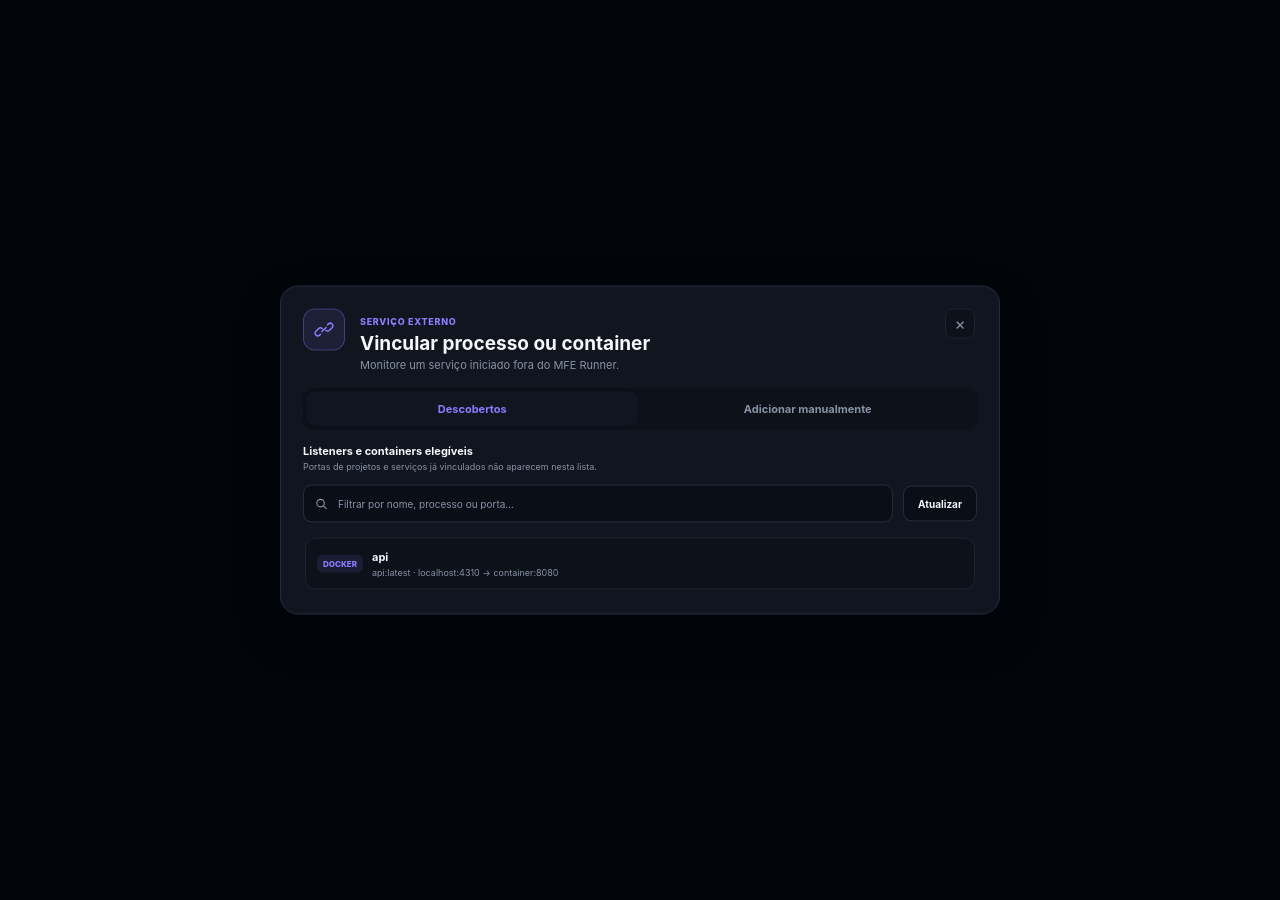
Test: ExternalServiceDialogComponent › explains IntelliJ log limitations and uses light theme tokens
Click the tab "Adicionar manualmente" at (808, 408), box [642, 392, 973, 426]
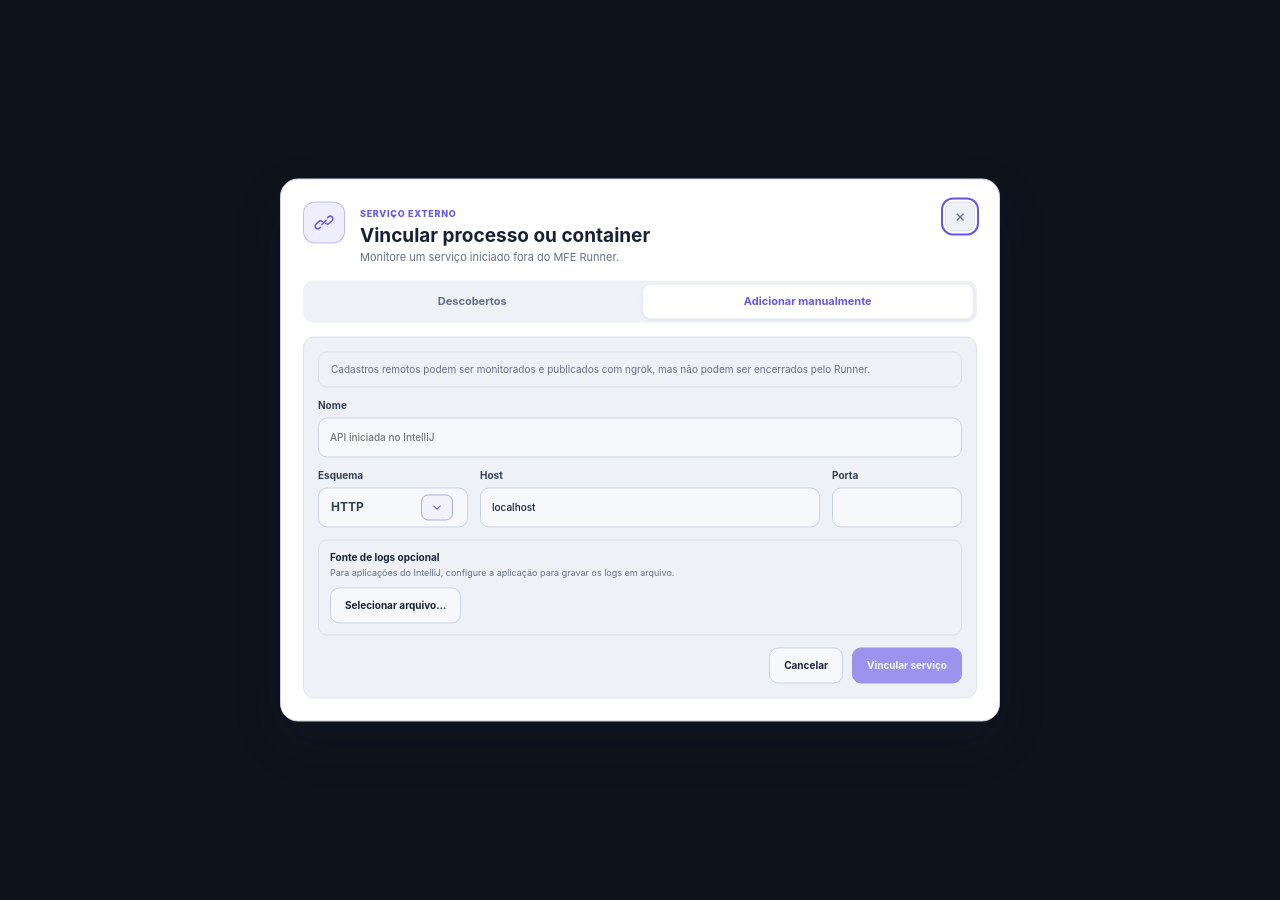
Expected: the text "configure a aplicação para gravar os logs em arquivo" is shown, [330, 568, 674, 578]
